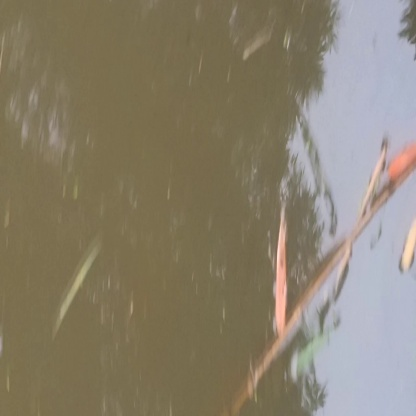leaf: (255, 208, 319, 342)
